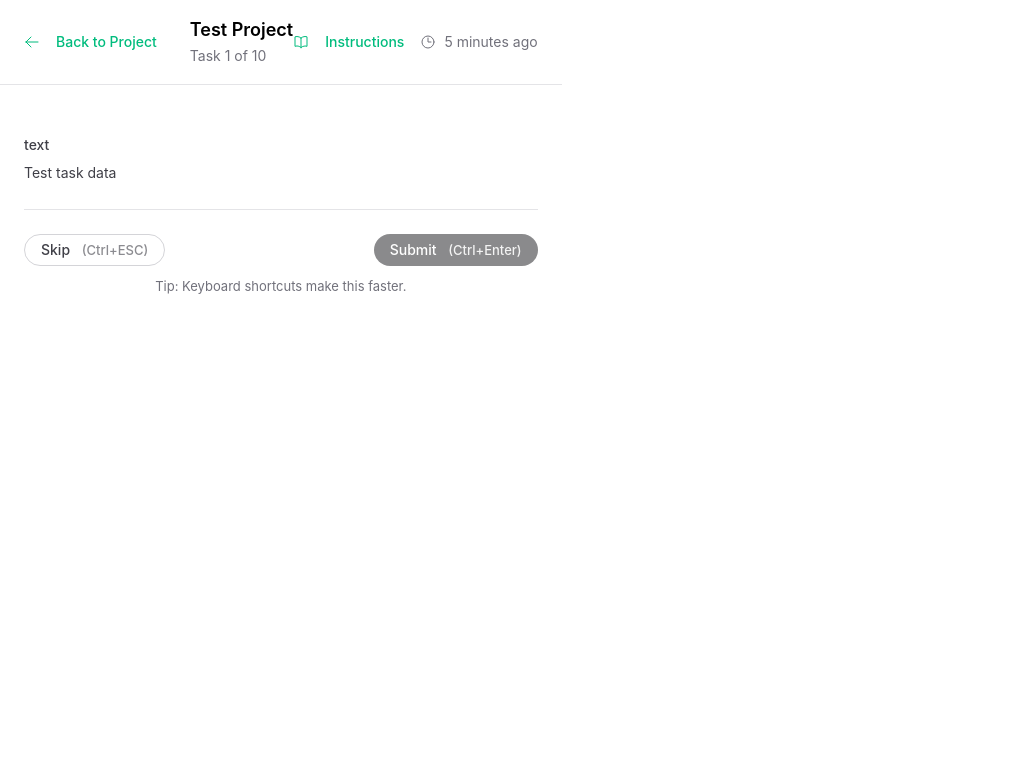
Test: LabelingInterface › Instructions Button › should hide Don't show again checkbox when opened manually
This screenshot has width=1024, height=768.
Click the button "Instructions". click: [349, 42]
box: x1=293 y1=33 x2=404 y2=51
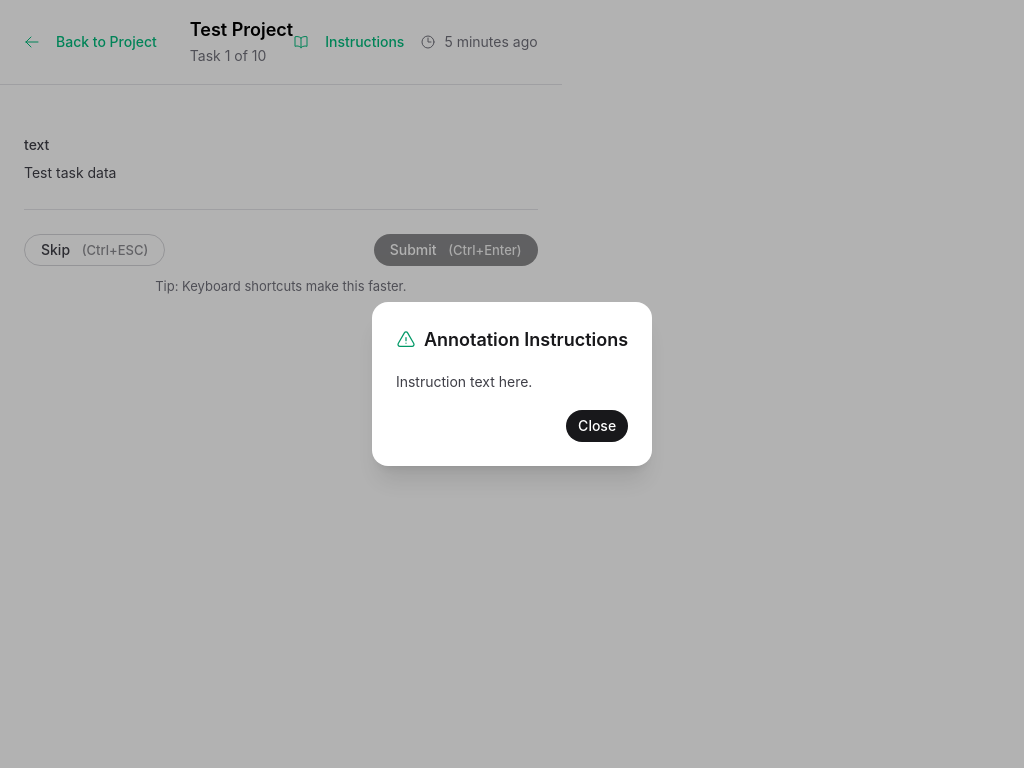
Result: the text "Instruction text here." is shown at x1=396 y1=373 x2=532 y2=390
